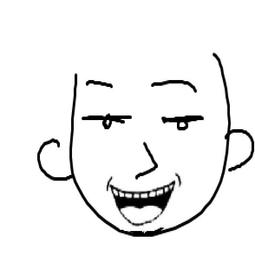ear: (31, 135, 77, 182), (220, 128, 253, 173)
eyebrow: (146, 75, 202, 95), (85, 73, 116, 92)
open_mouth: (101, 175, 182, 228)
pointy_nose: (133, 137, 163, 180)
small_eye: (156, 111, 207, 134), (81, 114, 133, 130)
